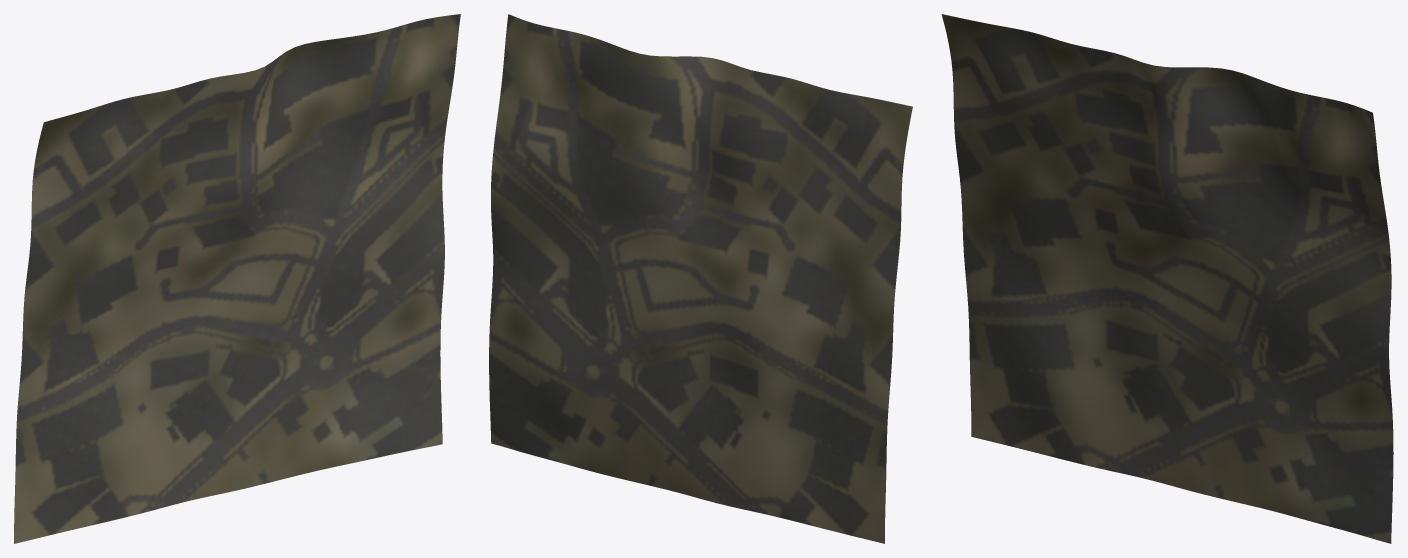
The model's file is ground_mid_07_07.obj.
The picture shows the model from 3 angles, left to right: view 1: azimuth 30°, elevation 25°; view 2: azimuth 150°, elevation 25°; view 3: azimuth 330°, elevation 25°; orthographic projection. The views are drawn at different scales.
Parts seen in each view (by area): view 1: ground_mid_07_07; view 2: ground_mid_07_07; view 3: ground_mid_07_07.
Part boxes in pixels (left/top/right/bottom): ground_mid_07_07: left=14, top=14, right=460, bottom=543; ground_mid_07_07: left=489, top=14, right=912, bottom=543; ground_mid_07_07: left=941, top=14, right=1393, bottom=543.
Size of the model in its own units: 200 by 200 by 24.6.
Materials: 1 (1 with a texture image).
